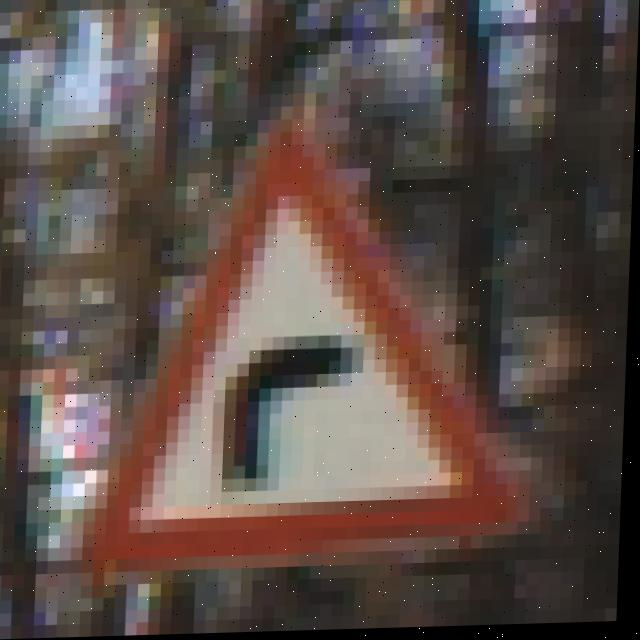right_turn: (93, 115, 523, 570)
